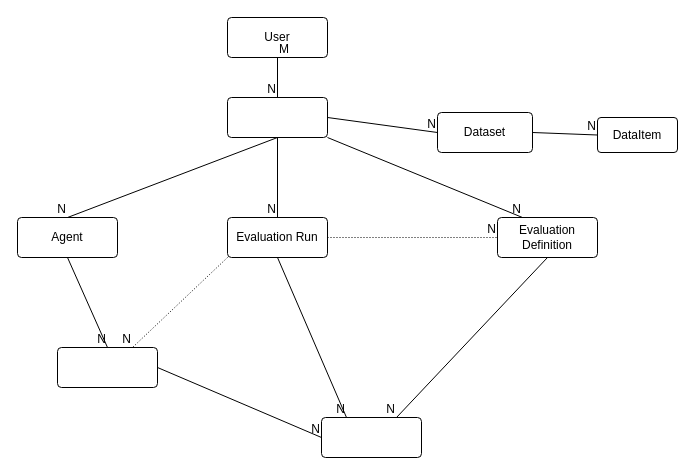
Image size: 695x475. Some labels were removed from this diagram. The shapes that lost their labels are listed below. From the top down, each one's centre as x and y in pixels, then its label:
At [277,117]: "Workspace".
At [107,367]: "Agent Version".
At [371,437]: "Evaluation Result".
